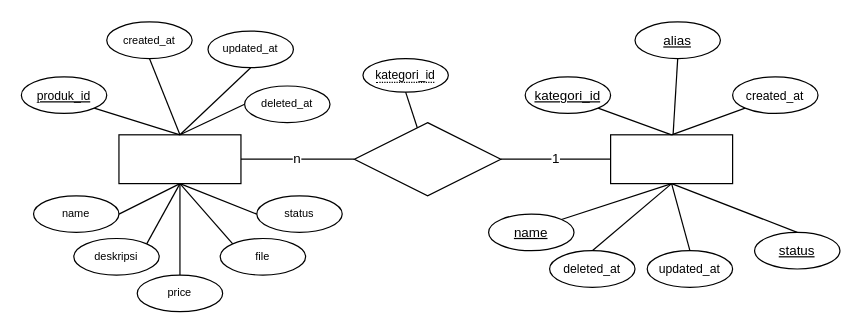
Image size: 861x333. Some labels were removed from this diagram. Here are the shapes that lost their labels. From the top down, the centre of each, then its label:
(x=179, y=159): master_produk
(x=427, y=158): memiliki
(x=671, y=159): master_kategori
